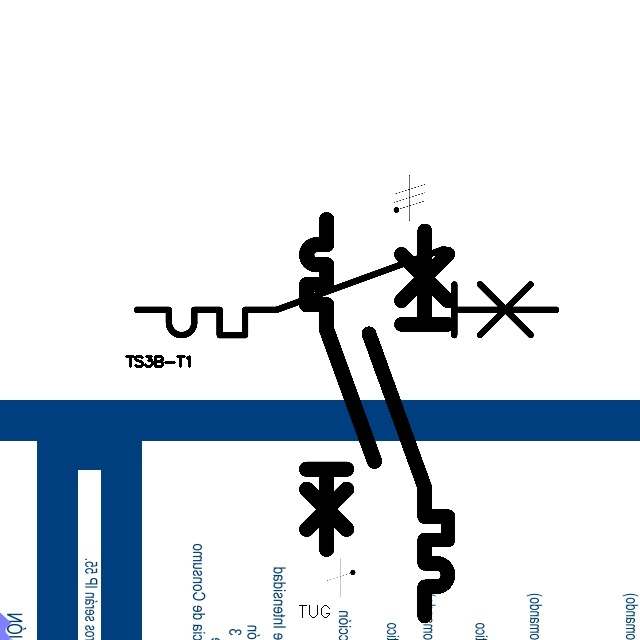interruptor_termomagnetico: (126, 238, 566, 346), (359, 220, 458, 625), (298, 211, 383, 557)
